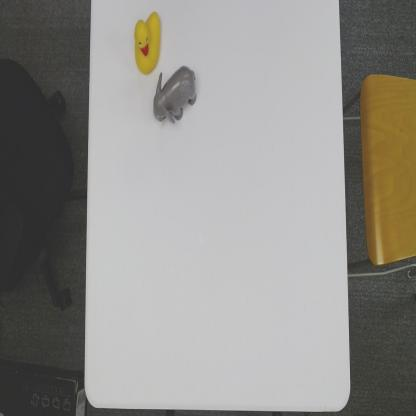Duck: (133, 10, 165, 74)
Elephant: (153, 63, 197, 125)
